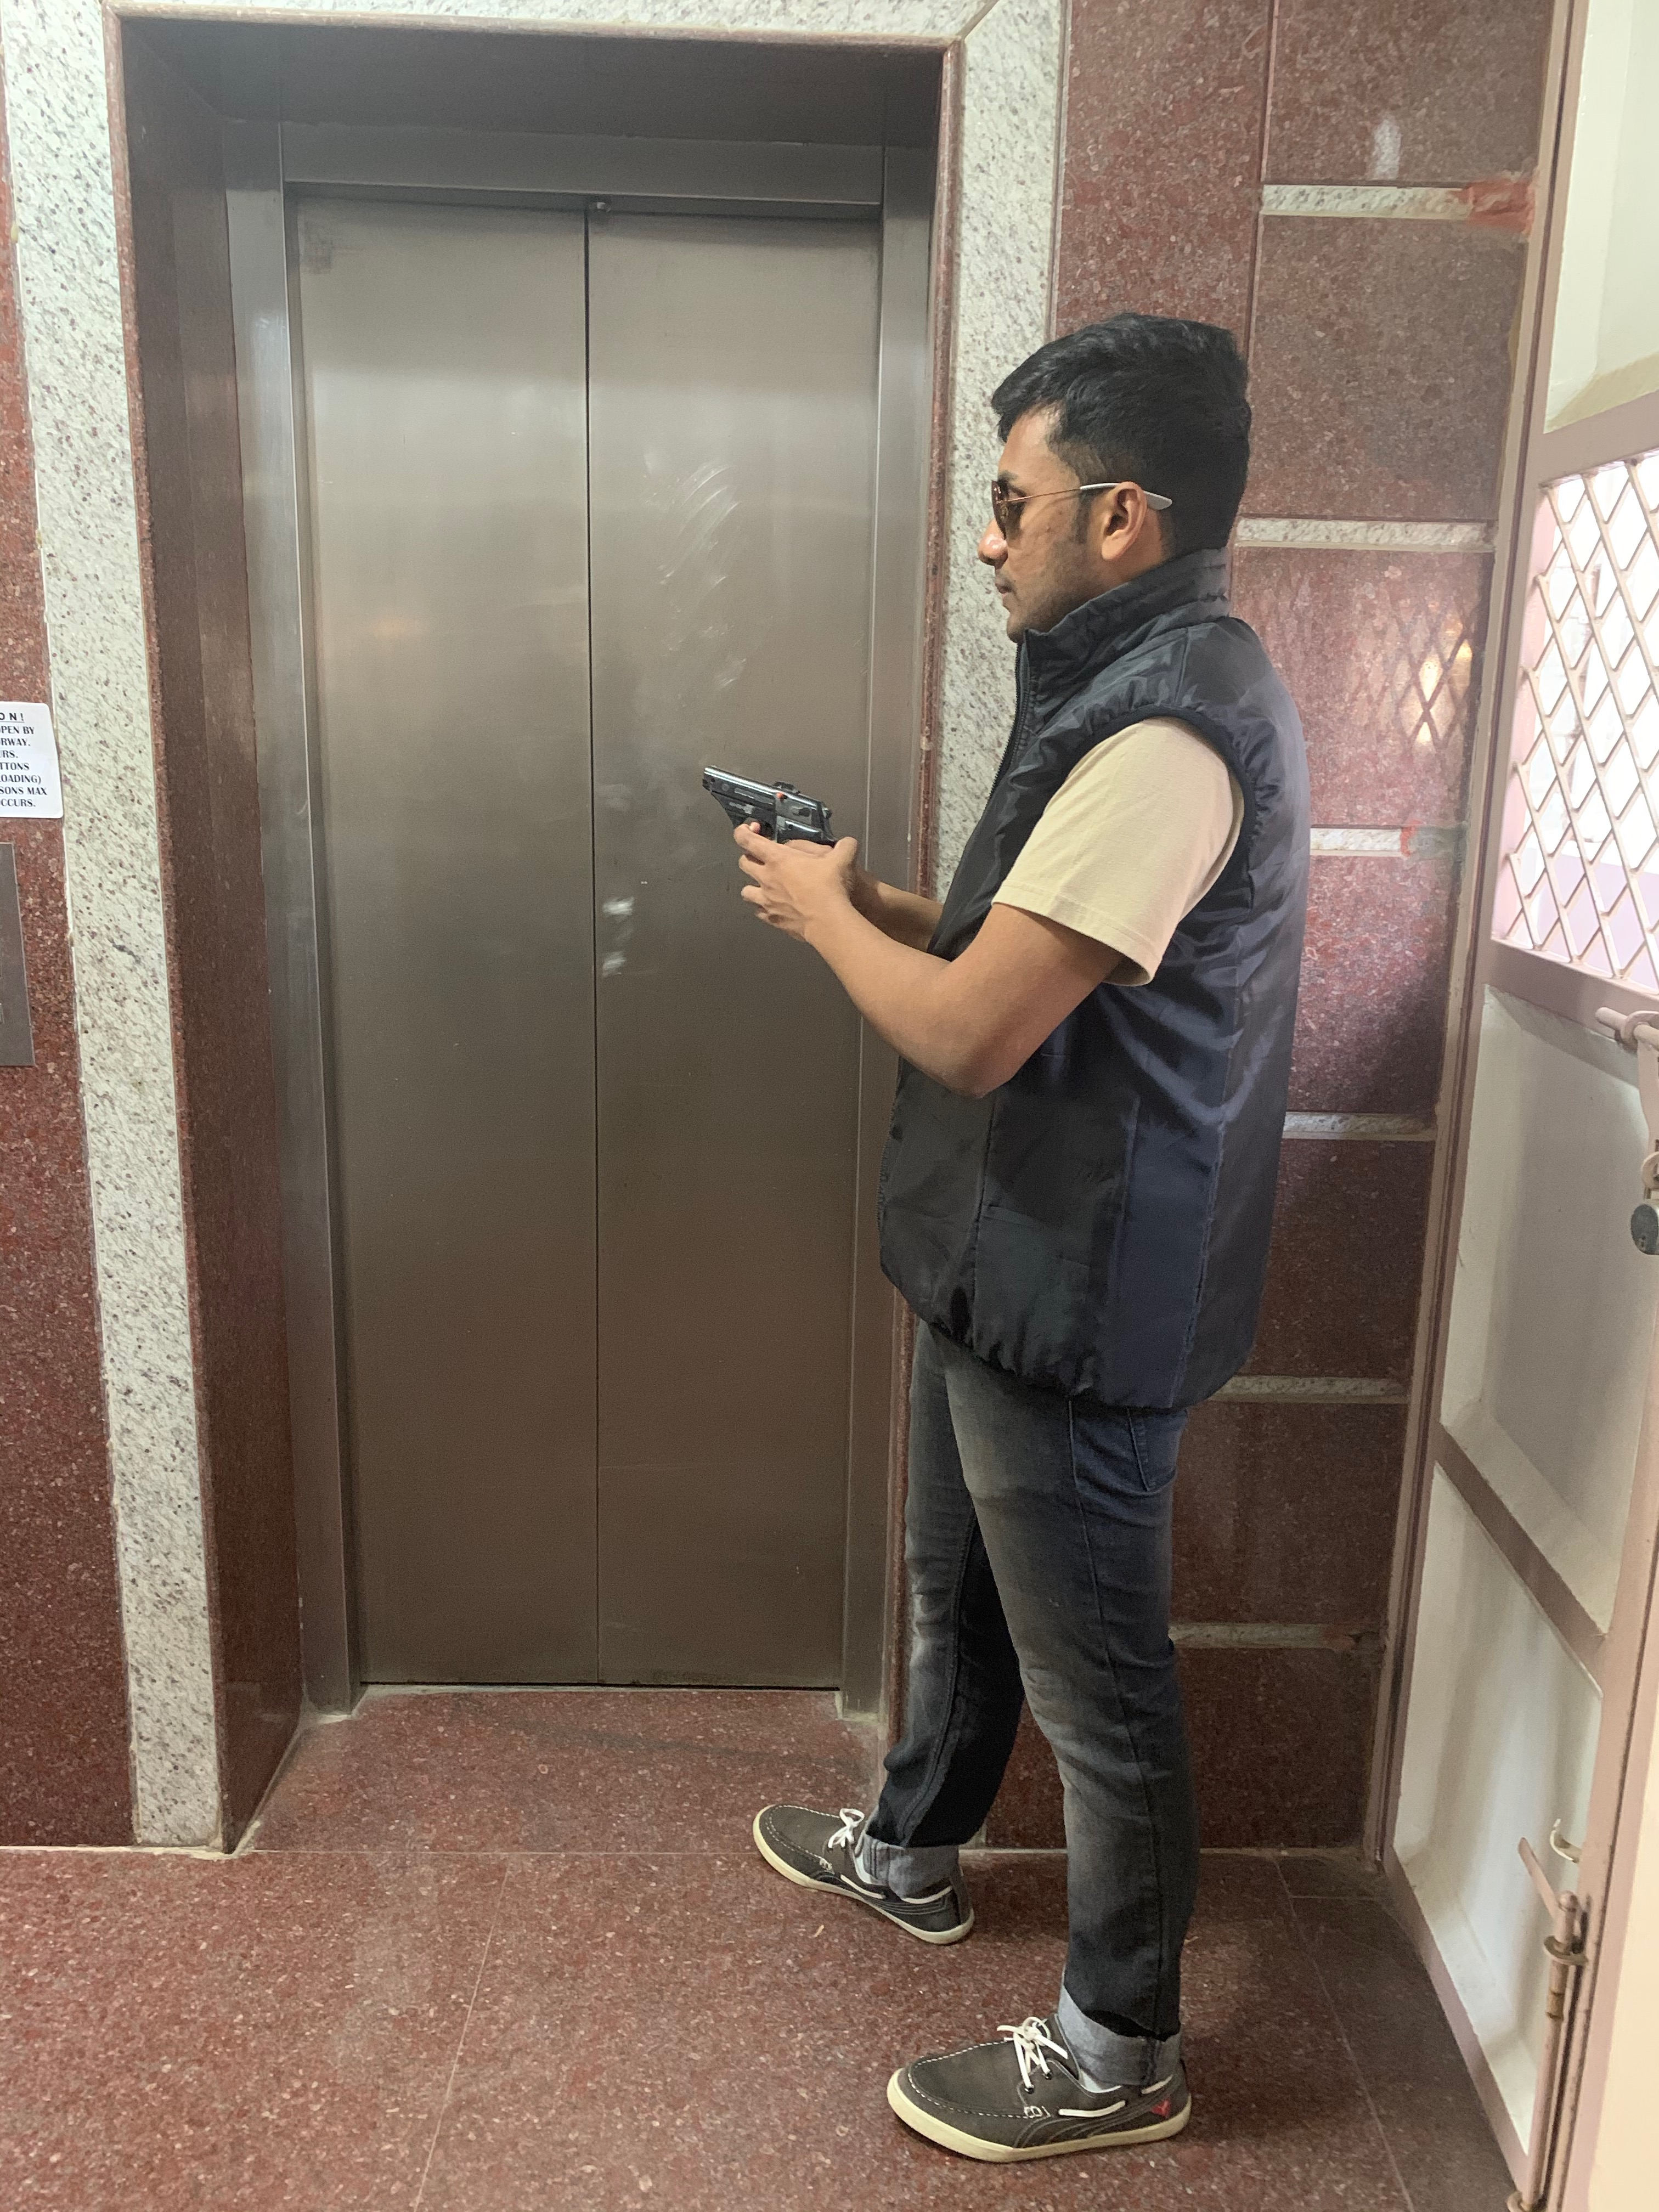gun: (694, 749, 830, 911)
